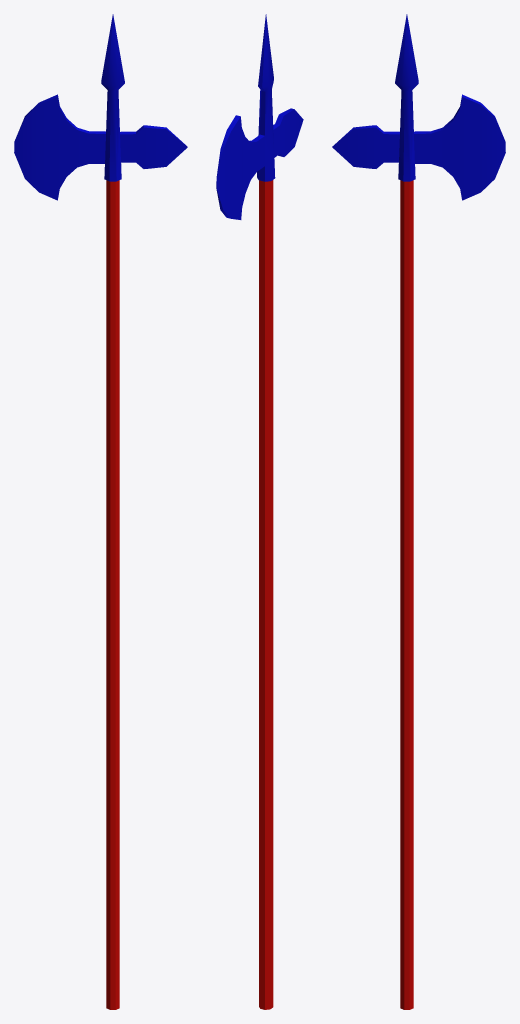
File: Halberd right size.fbx
The picture shows the model from 3 angles, left to right: view 1: azimuth 90°, elevation 25°; view 2: azimuth 150°, elevation 25°; view 3: azimuth 270°, elevation 25°; orthographic projection.
Parts seen in each view (by area): view 1: Cylinder; view 2: Cylinder; view 3: Cylinder.
Part boxes in pixels (<box>): Cylinder: <box>14,14,187,1009</box>; Cylinder: <box>216,14,303,1009</box>; Cylinder: <box>332,14,505,1009</box>.
Bounding box in the file's own units: 4 × 256 × 40.58.
